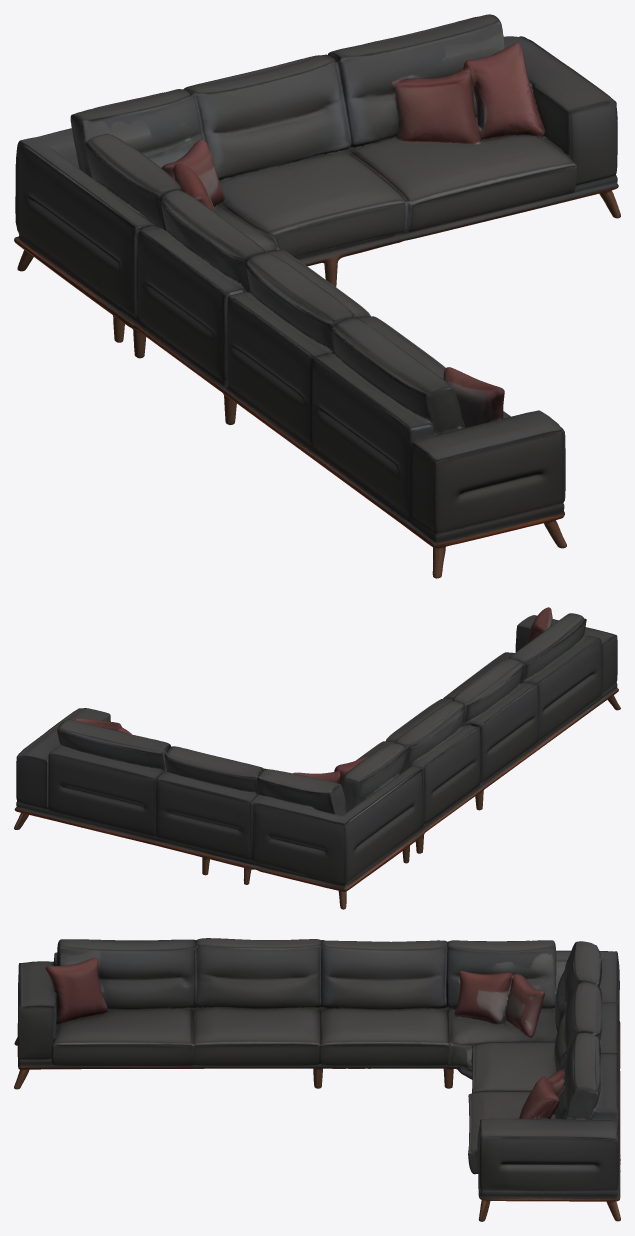
Rendered from sectional-sofa.glb.
The picture shows the model from 3 angles, top to bottom: view 1: azimuth 30°, elevation 25°; view 2: azimuth 150°, elevation 25°; view 3: azimuth 270°, elevation 25°; orthographic projection. The views are drawn at different scales.
Visible parts, largest first — view 1: tripo_node_cd1265d8-2108-46f2-876f-82c0d464c968; view 2: tripo_node_cd1265d8-2108-46f2-876f-82c0d464c968; view 3: tripo_node_cd1265d8-2108-46f2-876f-82c0d464c968.
Boxes of the visible parts, left/top/right/bottom form: tripo_node_cd1265d8-2108-46f2-876f-82c0d464c968: left=14, top=14, right=620, bottom=578; tripo_node_cd1265d8-2108-46f2-876f-82c0d464c968: left=14, top=607, right=620, bottom=909; tripo_node_cd1265d8-2108-46f2-876f-82c0d464c968: left=14, top=938, right=620, bottom=1221.
Size of the model in its own units: 0.6981 by 0.2127 by 1.
Materials: 1 (1 with a texture image).
